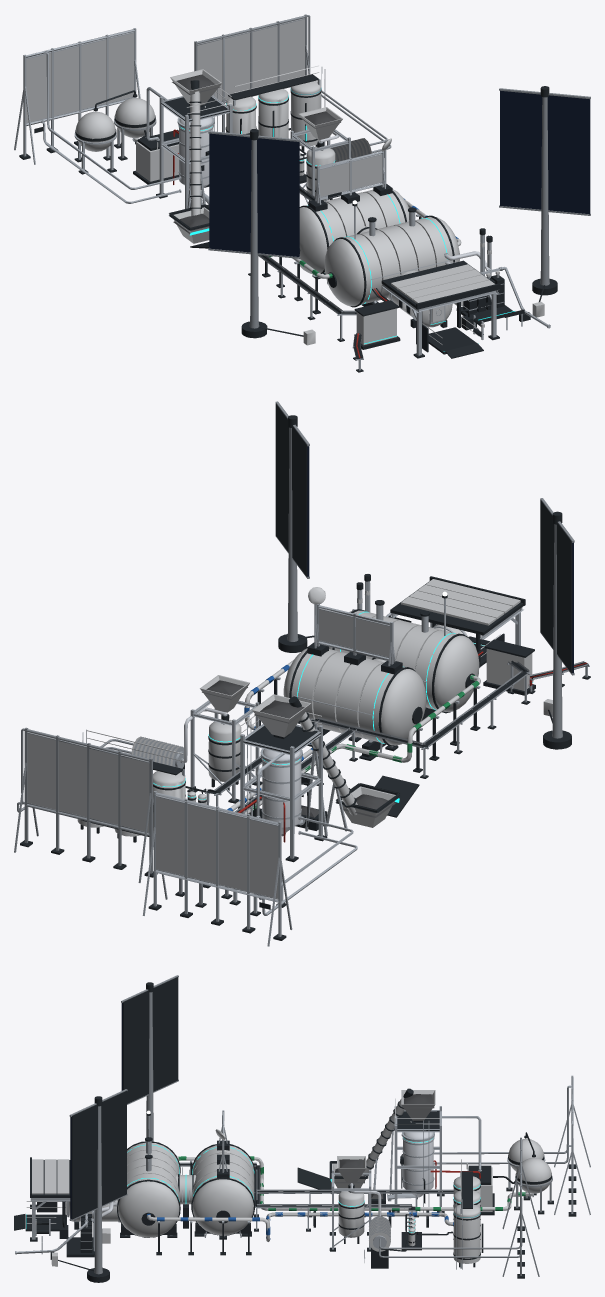
Rendered from life_support_game.glb.
3 renders of one model, top to bottom at view 1: azimuth 30°, elevation 25°; view 2: azimuth 150°, elevation 25°; view 3: azimuth 270°, elevation 25°, orthographic. The views are drawn at different scales.
Visible parts, largest first — view 1: LS_Paint, Tier_20, LS_Metal, Tier_03, Tier_05, Tier_12, LS_GlowCyan; view 2: LS_Paint, LS_Metal, Tier_20, Tier_03; view 3: LS_Paint, Tier_20, LS_Metal, Tier_03, Tier_12, Tier_05, LS_GlowCyan.
Boxes of the visible parts, box(x1,y1,x2,y2) form: LS_Paint: box(19, 32, 530, 372); Tier_20: box(208, 86, 590, 345); LS_Metal: box(14, 28, 550, 370); Tier_03: box(194, 14, 391, 153); Tier_05: box(114, 94, 156, 160); Tier_12: box(290, 80, 321, 146); LS_GlowCyan: box(180, 95, 514, 351); LS_Paint: box(80, 574, 590, 940); LS_Metal: box(82, 581, 589, 946); Tier_20: box(275, 401, 574, 749); Tier_03: box(14, 727, 157, 882); LS_Paint: box(14, 1088, 576, 1268); Tier_20: box(51, 975, 178, 1282); LS_Metal: box(15, 1075, 590, 1269); Tier_03: box(379, 1137, 539, 1278); Tier_12: box(453, 1204, 480, 1263); Tier_05: box(514, 1154, 553, 1214); LS_GlowCyan: box(26, 1137, 480, 1232).
Bounding box in the file's own units: 25.9 × 15.5 × 44.94.
